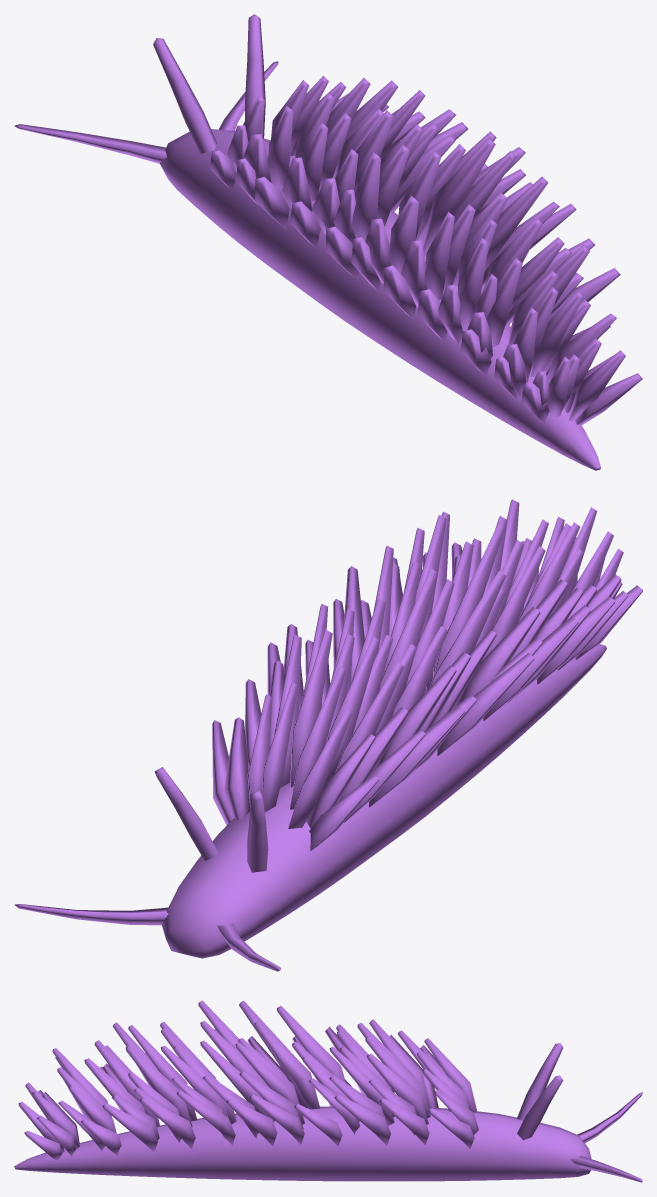
Rendered from nudibranch_game.glb.
The picture shows the model from 3 angles, top to bottom: view 1: azimuth 30°, elevation 25°; view 2: azimuth 150°, elevation 25°; view 3: azimuth 270°, elevation 25°; orthographic projection. The views are drawn at different scales.
Parts seen in each view (by area): view 1: nudibranch_game; view 2: nudibranch_game; view 3: nudibranch_game.
Part boxes in pixels (<box>): nudibranch_game: <box>14,14,642,470</box>; nudibranch_game: <box>14,499,642,971</box>; nudibranch_game: <box>14,1000,642,1182</box>.
Bounding box in the file's own units: 0.0256 × 0.0211 × 0.076.
